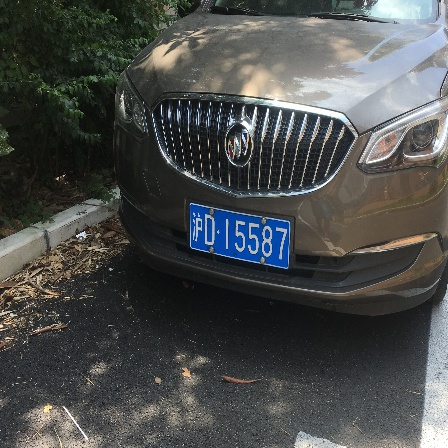plate: (185, 199, 299, 275)
